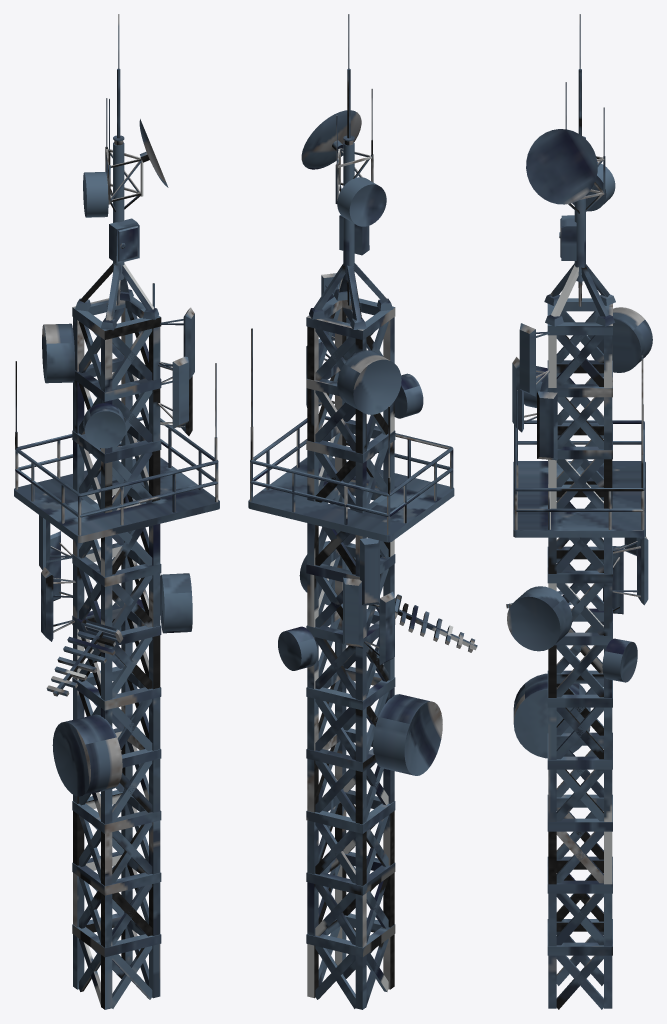
The model's file is bash.fbx.
3 views of the same model, side by side, from view 1: azimuth 30°, elevation 25°; view 2: azimuth 150°, elevation 25°; view 3: azimuth 270°, elevation 25° (orthographic).
Visible parts, largest first — view 1: bash; view 2: bash; view 3: bash.
Part boxes in pixels (bbox=[...]): bash: bbox=[14, 14, 219, 1009]; bash: bbox=[248, 14, 477, 1009]; bash: bbox=[506, 14, 652, 1009].
Bounding box in the file's own units: 513 × 2863 × 387.
